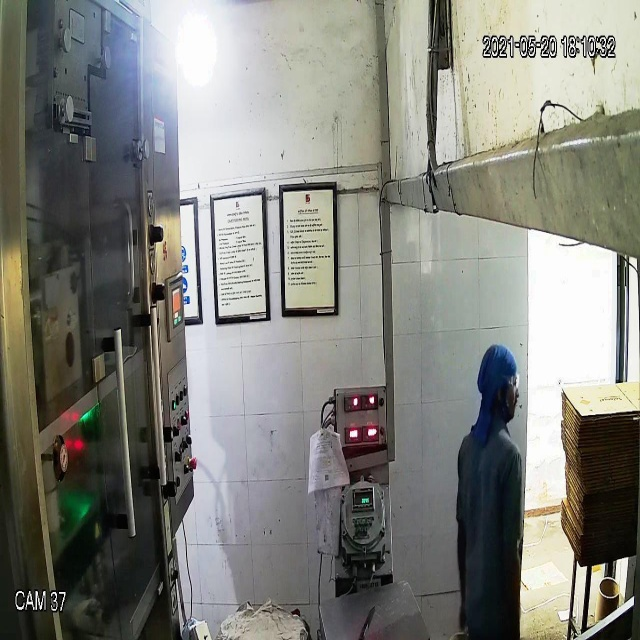Gafas: (494, 371, 522, 396)
